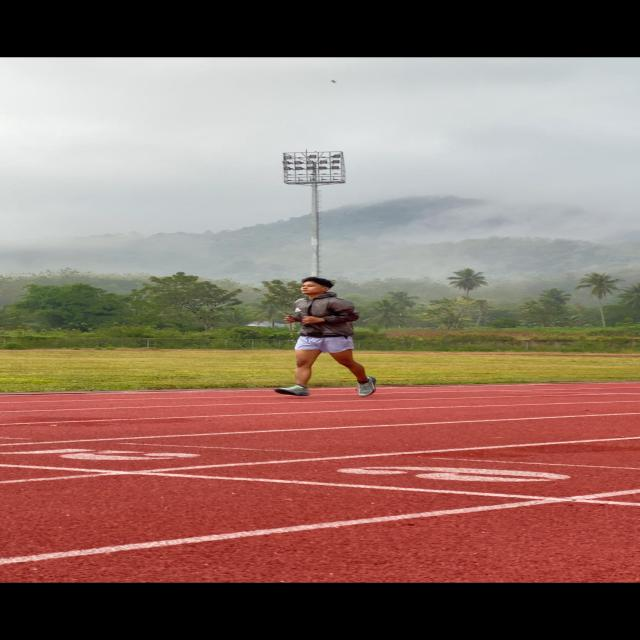nohelmet: (289, 273, 342, 302)
